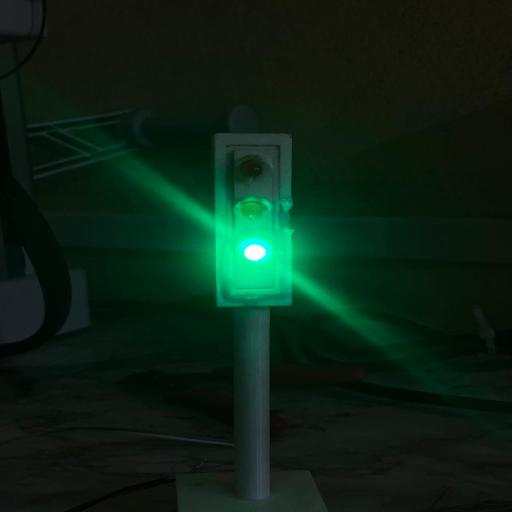Green Light: (244, 244, 266, 261)
